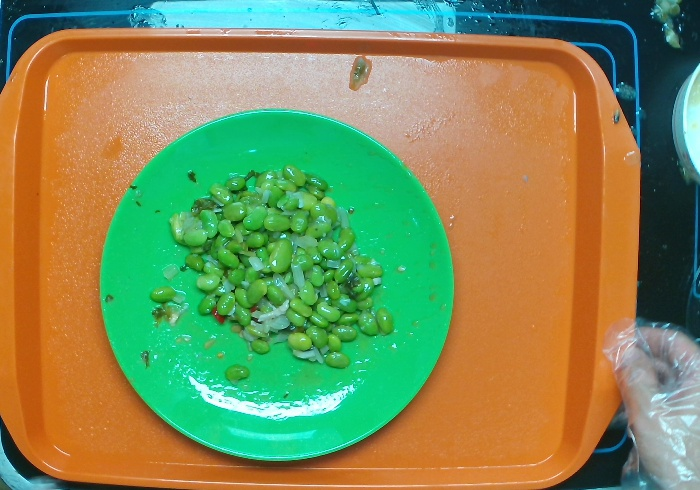HZYJPL-Lv_Se_Yuan_Pan: (97, 107, 455, 463)
